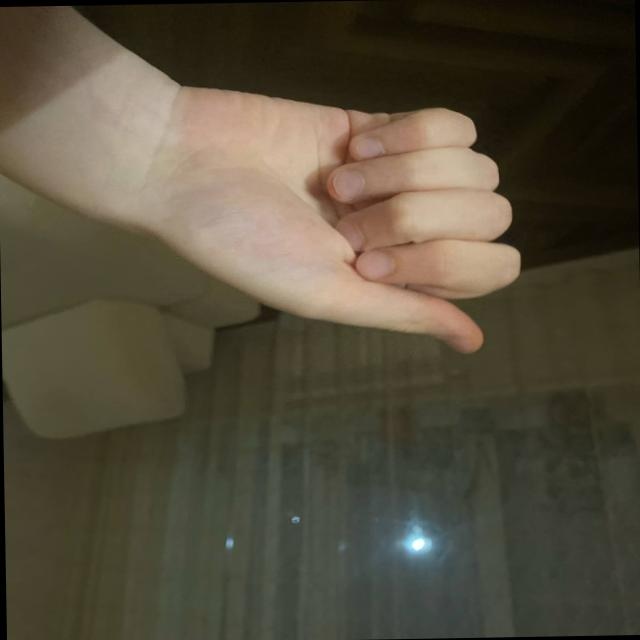a: (190, 74, 524, 368)
